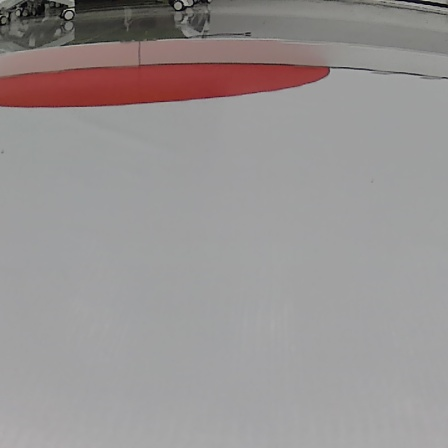red_base: (2, 59, 339, 107)
